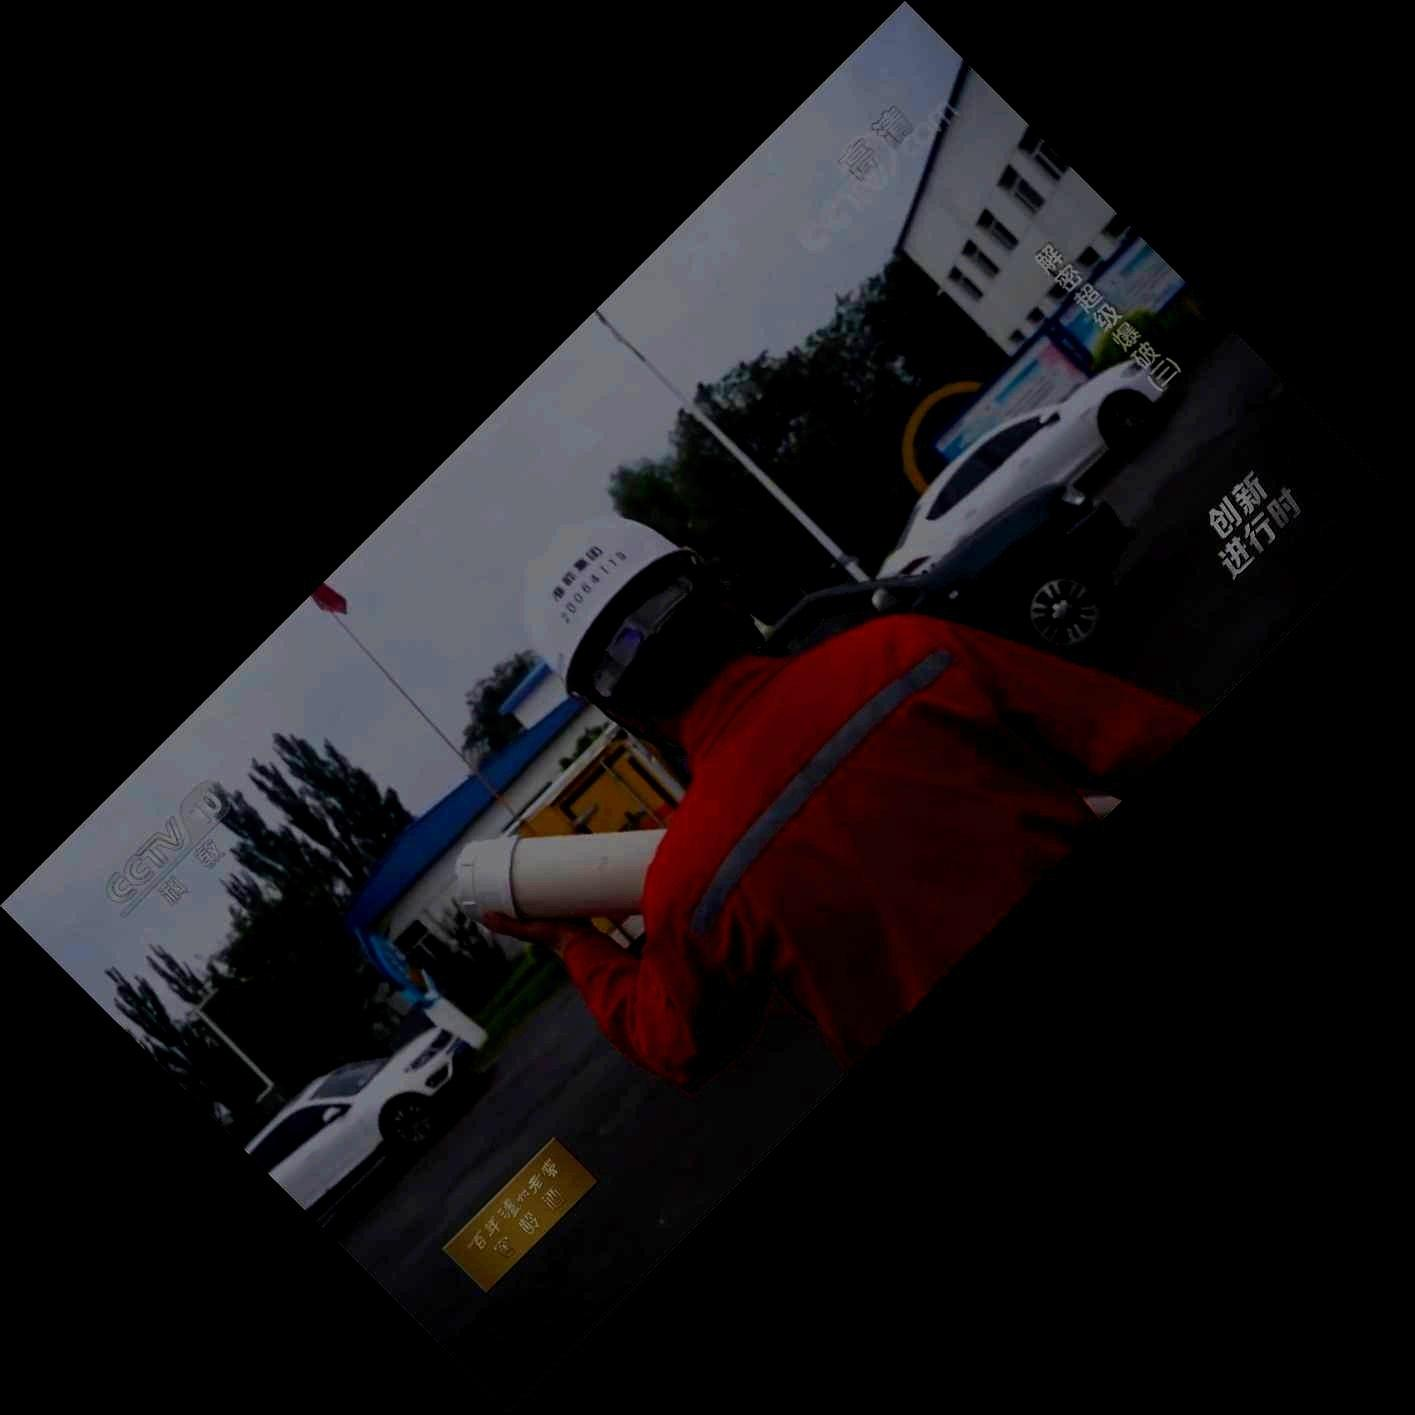helmet: (520, 514, 768, 753)
